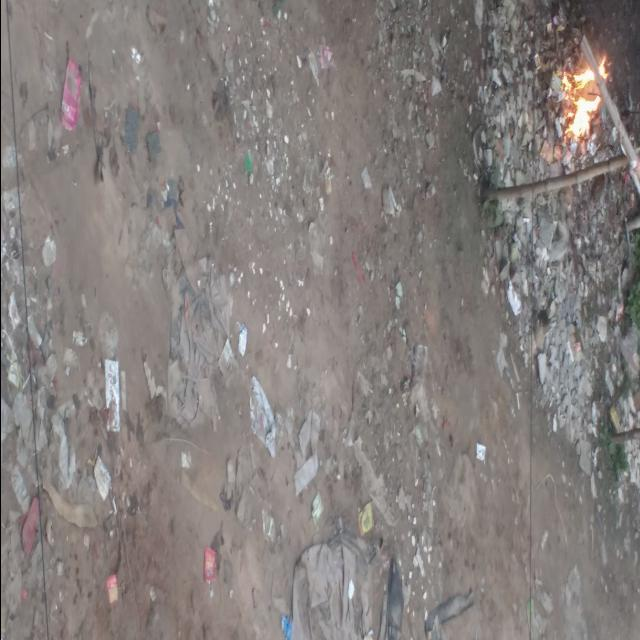firerotation: (559, 51, 613, 155)
